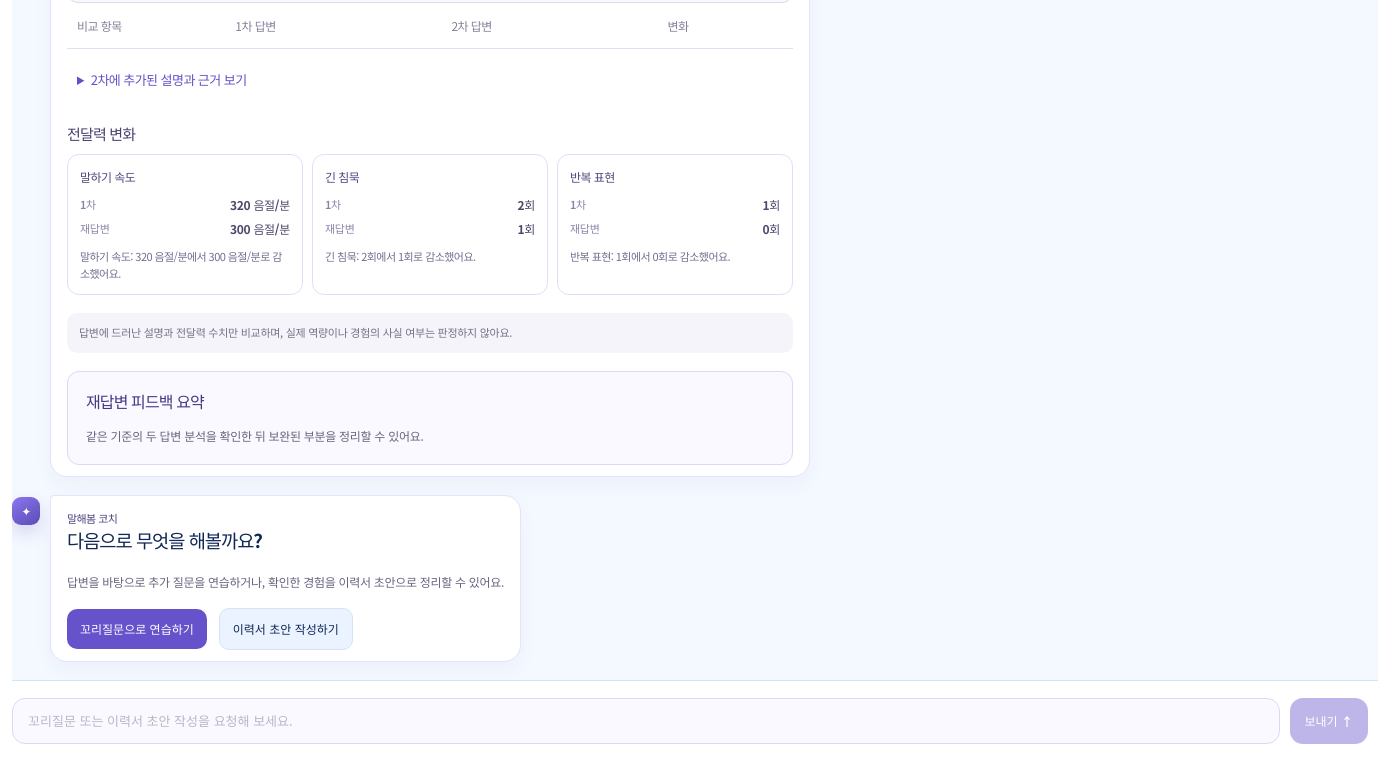
Scenario: 채팅 내 답변 비교 › 내용 비교 후 선택을 기다리고 버튼을 누른 뒤에만 첫 질문과 면접 입력창을 연결한다
(page scrolled)
Expected: the button "이력서 초안 작성하기" is enabled, [219, 608, 353, 650]
Expected: the field with placeholder "꼬리질문 또는 이력서 초안 작성을 요청해 보세요." is shown, [12, 698, 1280, 744]
Click the button with class "coach-recording-button": (137, 629) [67, 609, 207, 649]
(page scrolled)
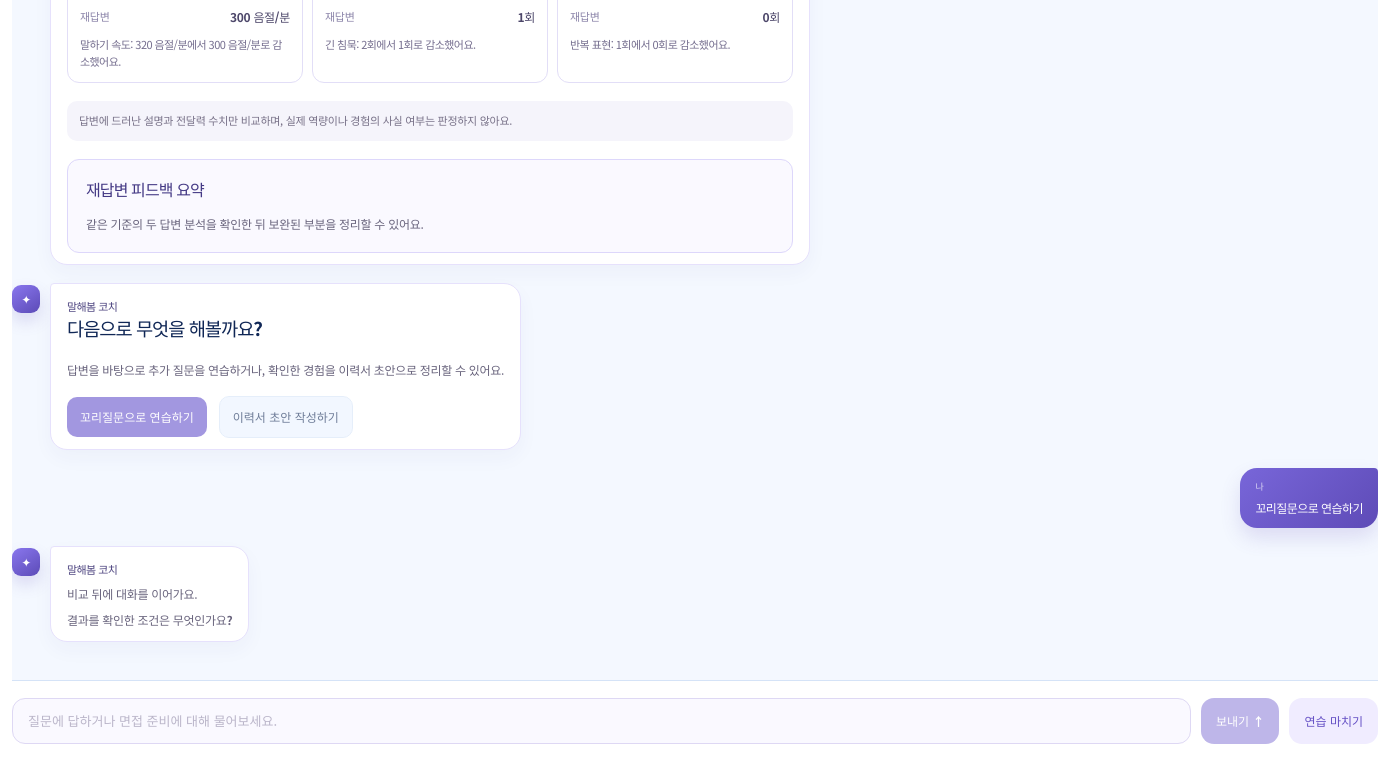
Result: the text "결과를 확인한 조건은 무엇인가요?" is shown at [67, 611, 232, 628]
Result: the field with id "interview-chat-input" is shown at [12, 698, 1191, 744]
